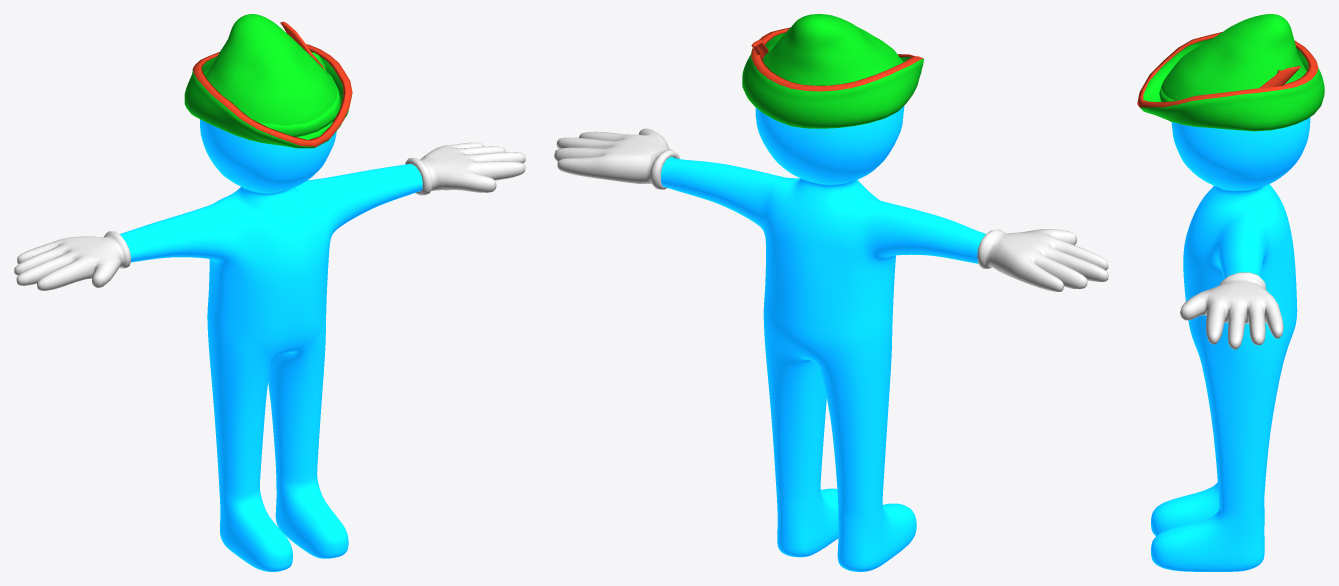
File: stickmanrigsiz.fbx
The picture shows the model from 3 angles, left to right: view 1: azimuth 30°, elevation 25°; view 2: azimuth 150°, elevation 25°; view 3: azimuth 270°, elevation 25°; orthographic projection. The views are drawn at different scales.
Parts seen in each view (by area): view 1: Stick Man Slap ReadyfRigify; view 2: Stick Man Slap ReadyfRigify; view 3: Stick Man Slap ReadyfRigify.
Part boxes in pixels (<box>): Stick Man Slap ReadyfRigify: <box>14,14,525,571</box>; Stick Man Slap ReadyfRigify: <box>554,14,1108,571</box>; Stick Man Slap ReadyfRigify: <box>1137,14,1324,571</box>.
Size of the model in its own units: 257 by 246 by 78.52.
